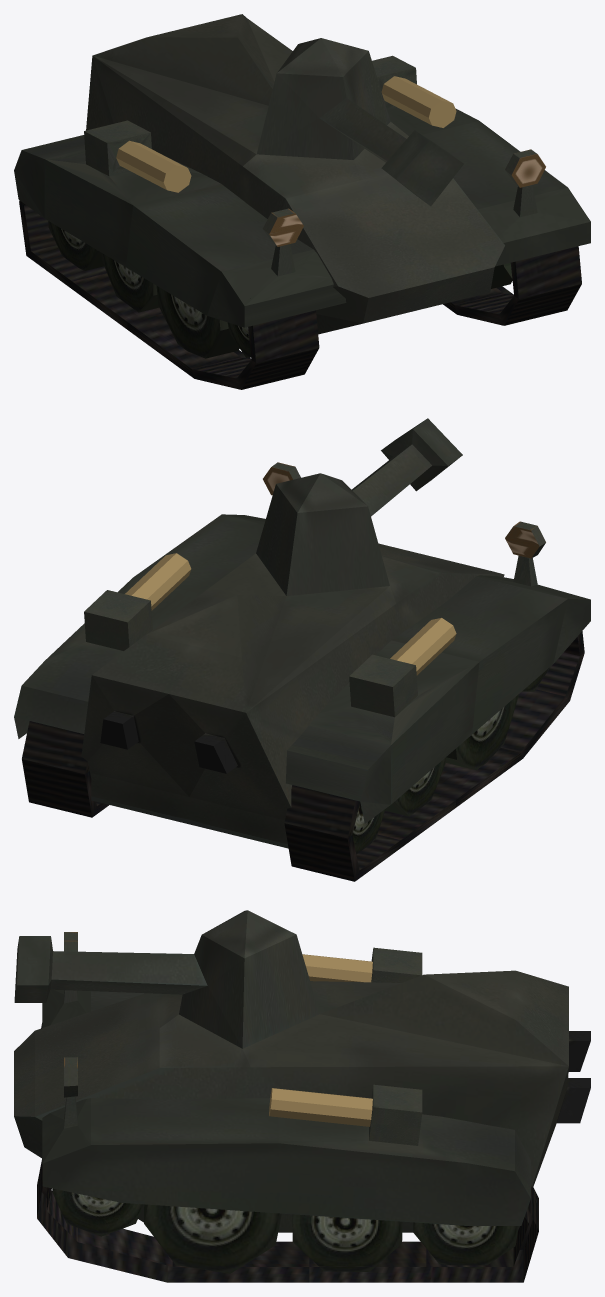
File: tank1.fbx
3 views of the same model, one above another, from view 1: azimuth 30°, elevation 25°; view 2: azimuth 150°, elevation 25°; view 3: azimuth 270°, elevation 25° (orthographic). The views are drawn at different scales.
Parts seen in each view (by area): view 1: tank__1_:polySurface20, tank__1_:polySurface19, tank__1_:polySurface18; view 2: tank__1_:polySurface20, tank__1_:polySurface18, tank__1_:polySurface19; view 3: tank__1_:polySurface20, tank__1_:polySurface18, tank__1_:polySurface19.
Boxes of the visible parts, x1,y1,x2,y2 form: tank__1_:polySurface20: [14, 14, 590, 389]; tank__1_:polySurface19: [116, 140, 191, 192]; tank__1_:polySurface18: [381, 76, 456, 127]; tank__1_:polySurface20: [14, 418, 590, 881]; tank__1_:polySurface18: [125, 553, 191, 610]; tank__1_:polySurface19: [390, 618, 456, 675]; tank__1_:polySurface20: [14, 910, 590, 1282]; tank__1_:polySurface18: [269, 1088, 372, 1126]; tank__1_:polySurface19: [302, 954, 372, 982].
Bounding box in the file's own units: 9.01 × 6.79 × 12.28.
